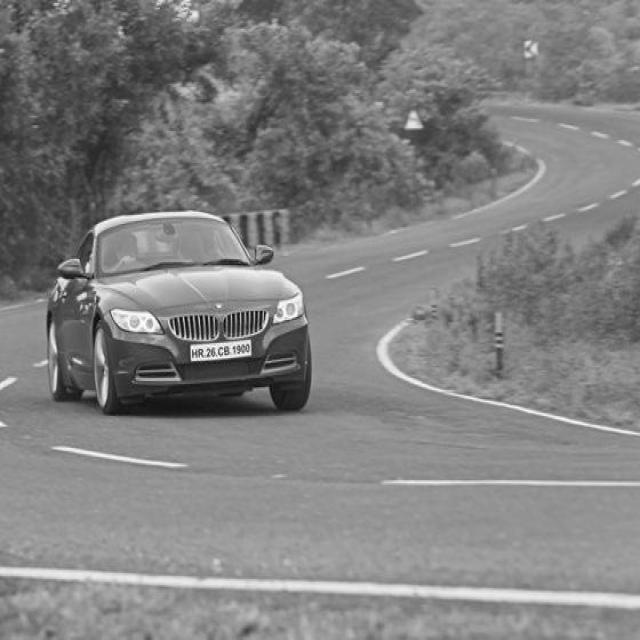car: (46, 192, 313, 421)
license-plate: (188, 341, 252, 366)
